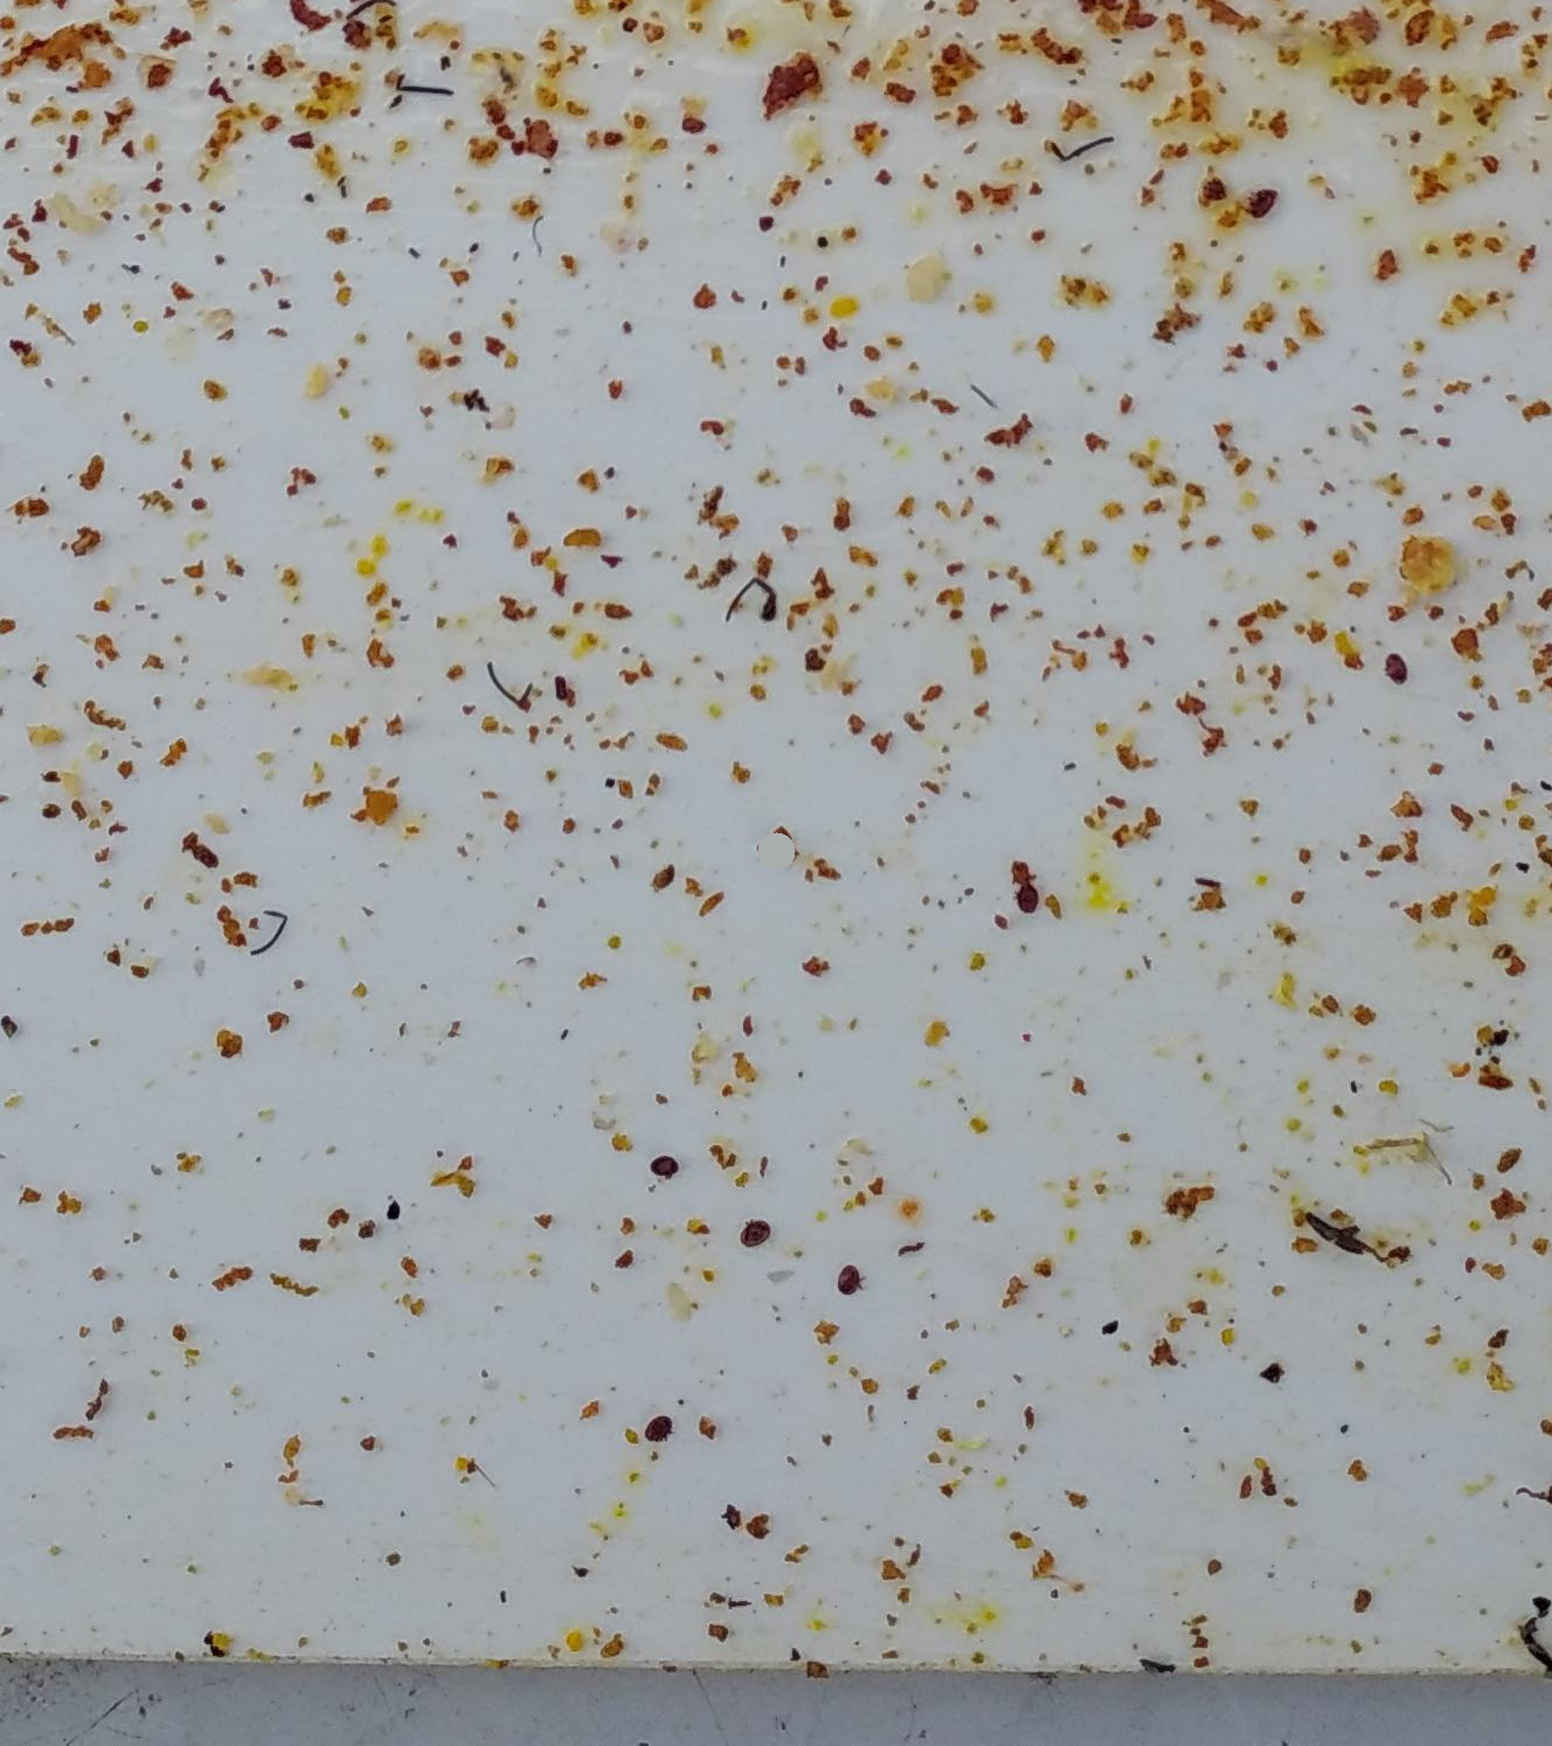Varroa: (1243, 186, 1276, 219), (646, 1415, 674, 1444), (1387, 654, 1414, 683), (1013, 882, 1040, 910), (652, 1153, 679, 1180), (752, 1210, 777, 1237), (743, 1228, 769, 1253), (836, 1265, 861, 1291)
